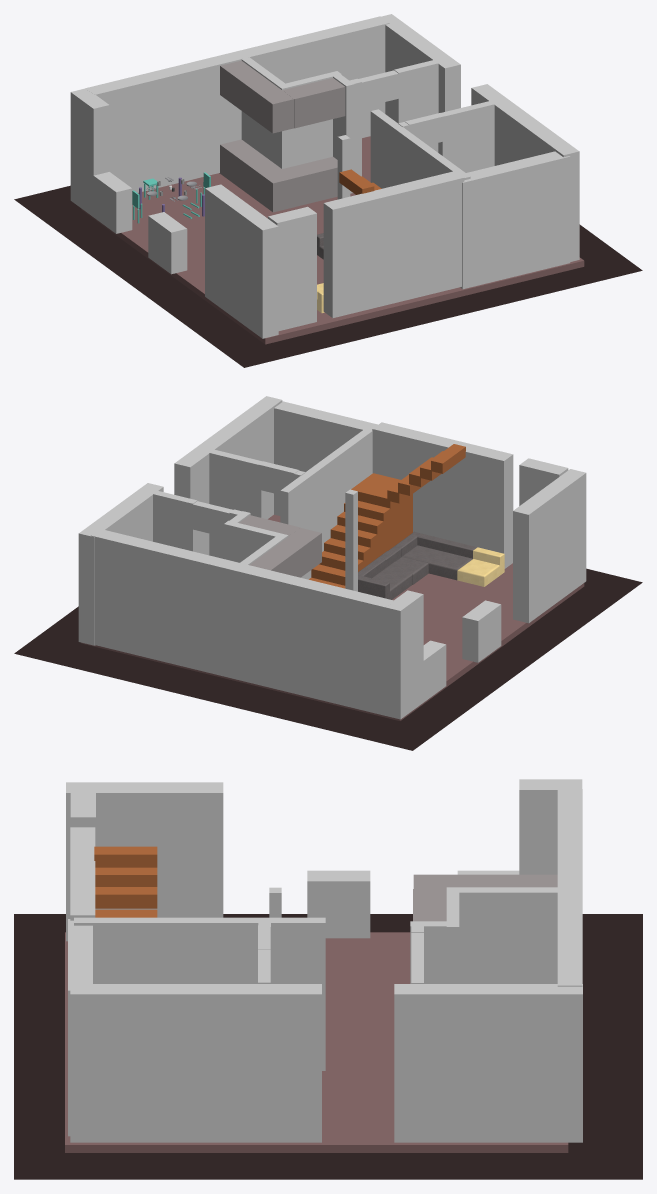
Rendered from minihouse.gltf.
The picture shows the model from 3 angles, top to bottom: view 1: azimuth 30°, elevation 25°; view 2: azimuth 150°, elevation 25°; view 3: azimuth 270°, elevation 25°; orthographic projection. The views are drawn at different scales.
Visible parts, largest first — view 1: Box2, Plane, Box7, Box6, pod, Box1, Box5, Box8, Box21, Box3, Box, Box15 (+15 smaller); view 2: Box2, Plane, Box7, Box1, pod, Box21, Box5, Box3, Box6, Box, Box18, Box9 (+21 smaller); view 3: Plane, Box5, Box, pod, Box21, Box1, Box4, Box2, Box20, Box3, Box7, Box16 (+9 smaller).
Boxes of the visible parts, x1,y1,x2,y2 form: Box2: (85,16,389,192); Plane: (14,185,642,367); Box7: (323,171,464,317); Box6: (460,151,570,289); pod: (81,136,584,344); Box1: (205,184,278,338); Box5: (471,84,579,261); Box8: (268,206,316,330); Box21: (370,109,470,188); Box3: (70,88,109,216); Box: (381,14,460,119); Box15: (219,139,294,212); Box2: (90,529,394,715); Plane: (14,568,642,750); Box7: (372,422,513,568); Box1: (513,469,586,623); pod: (81,514,584,720); Box21: (280,423,377,579); Box5: (174,396,282,555); Box3: (385,590,423,719); Box6: (274,401,372,515); Box: (78,483,163,645); Box18: (209,449,265,558); Box9: (153,490,197,552); Plane: (14,914,642,1179); Box5: (70,984,321,1142); Box: (394,984,582,1142); pod: (65,932,568,1152); Box21: (74,917,325,1070); Box1: (66,782,223,941); Box4: (459,887,557,983); Box2: (557,789,582,986); Box20: (307,870,370,938); Box3: (519,779,582,874); Box7: (70,827,95,920); Box16: (413,874,557,888).
Bounding box in the file's own units: 10 × 3.26 × 10.
Materials: 102 (2 with a texture image).
